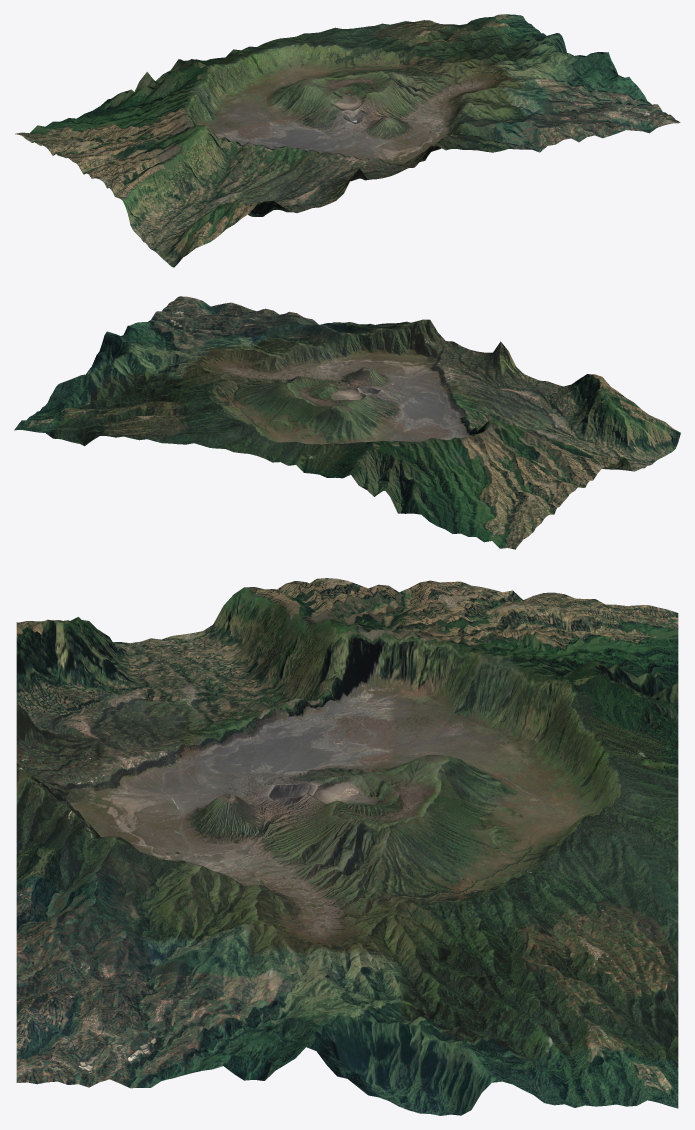
The model's file is bromo_mountain_gunung_bromo.glb.
3 renders of one model, top to bottom at view 1: azimuth 30°, elevation 25°; view 2: azimuth 150°, elevation 25°; view 3: azimuth 270°, elevation 25°, orthographic. The views are drawn at different scales.
Parts seen in each view (by area): view 1: EXPORT_GOOGLE_SAT_WM; view 2: EXPORT_GOOGLE_SAT_WM; view 3: EXPORT_GOOGLE_SAT_WM.
Boxes of the visible parts, bbox=[...] form: EXPORT_GOOGLE_SAT_WM: bbox=[15, 14, 680, 267]; EXPORT_GOOGLE_SAT_WM: bbox=[14, 296, 680, 549]; EXPORT_GOOGLE_SAT_WM: bbox=[16, 578, 678, 1115].
Size of the model in its own units: 1712 by 213 by 978.
1 material, 1 textured.
